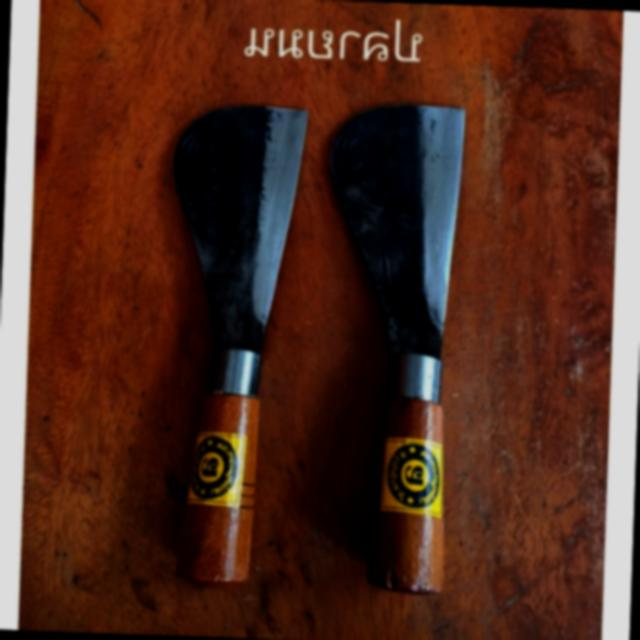eto: (318, 97, 468, 603), (165, 97, 316, 590), (169, 96, 311, 591)
